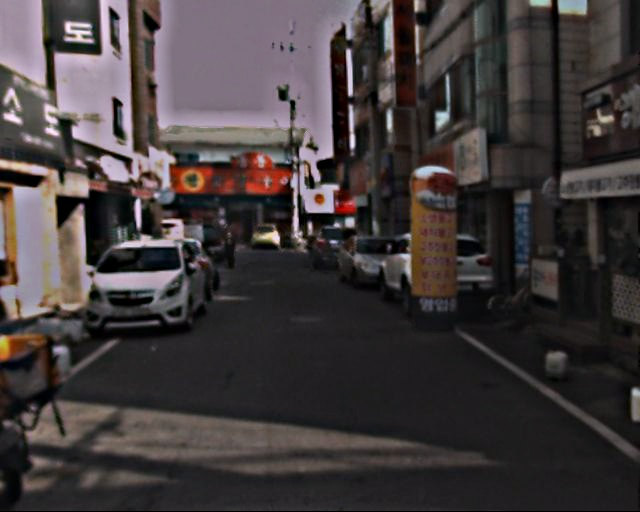person: (221, 223, 243, 271)
